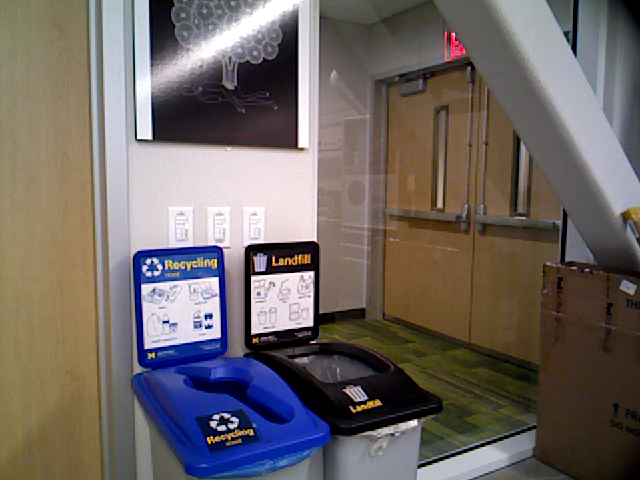painting1: (131, 1, 306, 147)
